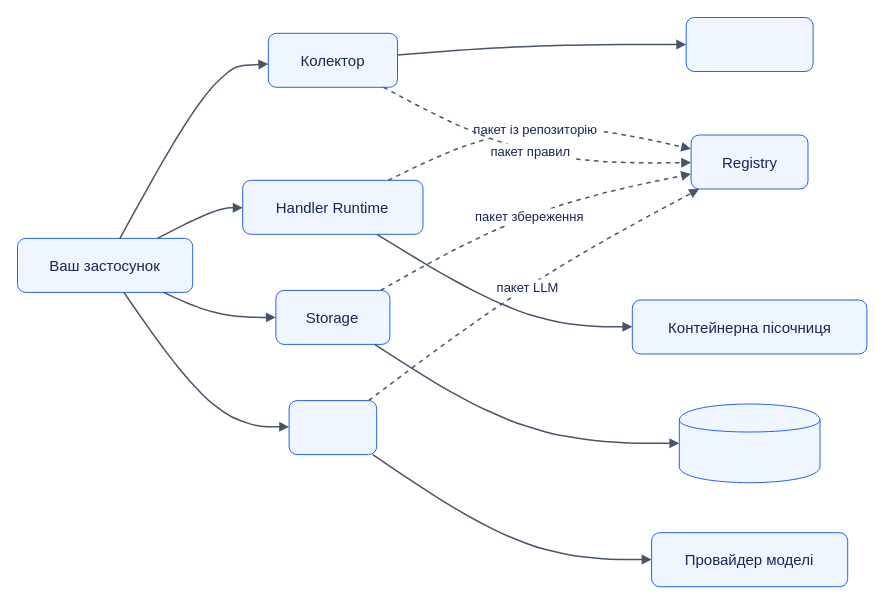
This 885x605 diagram has some shape labels left out. The centre of each missing label's shape, as x and y in pixels:
"LLM" goes at (332,427).
"Джерело" goes at (749,44).
"Цільове сховище" goes at (749,443).
